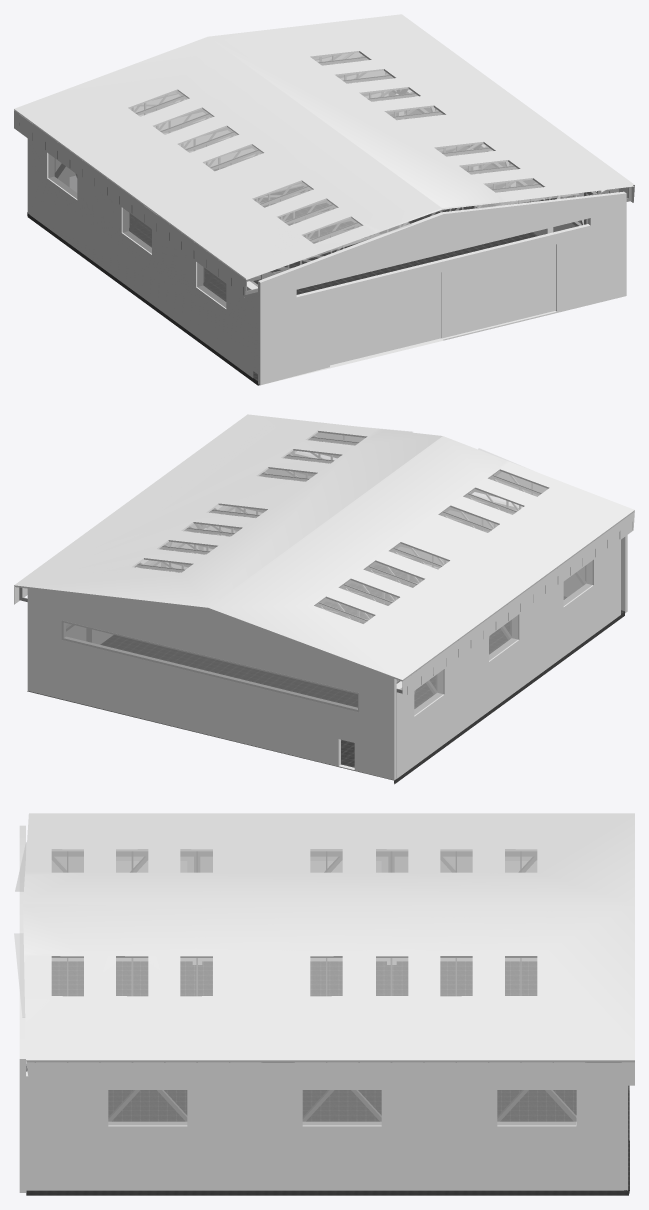
The model's file is showroom.glb.
3 renders of one model, top to bottom at view 1: azimuth 30°, elevation 25°; view 2: azimuth 150°, elevation 25°; view 3: azimuth 270°, elevation 25°, orthographic. The views are drawn at different scales.
Parts seen in each view (by area): view 1: techo, pared_entrada, paredes_H_1_Cube_5, vidrios, doors, doors1, Mesh2_1_chromo lampara_0, suelo, pared_fondp_Cube; view 2: techo, pared_fondp_Cube, paredes_H_1_Cube_5, vidrios, suelo, Mesh2_1_chromo lampara_0, pared_entrada; view 3: techo, paredes_H_1_Cube_5, vidrios, suelo, Mesh2_1_chromo lampara_0, pared_entrada, pared_fondp_Cube.
Part boxes in pixels (x1,y1,x2,y2): techo: (14, 14, 634, 296); pared_entrada: (258, 191, 626, 385); paredes_H_1_Cube_5: (29, 78, 604, 377); vidrios: (48, 52, 583, 307); doors: (441, 244, 556, 338); doors1: (330, 272, 441, 365); Mesh2_1_chromo lampara_0: (19, 53, 631, 295); suelo: (27, 167, 537, 385); pared_fondp_Cube: (27, 53, 388, 214); techo: (14, 414, 634, 699); pared_fondp_Cube: (27, 588, 396, 780); paredes_H_1_Cube_5: (66, 476, 620, 778); vidrios: (61, 428, 592, 715); suelo: (27, 565, 624, 784); Mesh2_1_chromo lampara_0: (19, 435, 632, 694); pared_entrada: (266, 432, 627, 613); techo: (23, 813, 634, 1085); paredes_H_1_Cube_5: (25, 857, 621, 1190); vidrios: (14, 842, 629, 1125); suelo: (26, 961, 629, 1195); Mesh2_1_chromo lampara_0: (27, 851, 621, 1121); pared_entrada: (19, 825, 25, 1192); pared_fondp_Cube: (622, 1085, 627, 1190).
Size of the model in its own units: 91.7 by 30.22 by 97.37.
Materials: 4 (1 with a texture image).
